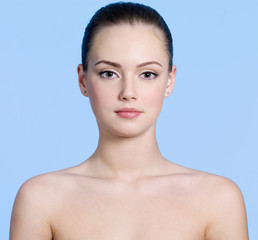teen: (80, 8, 177, 137)
